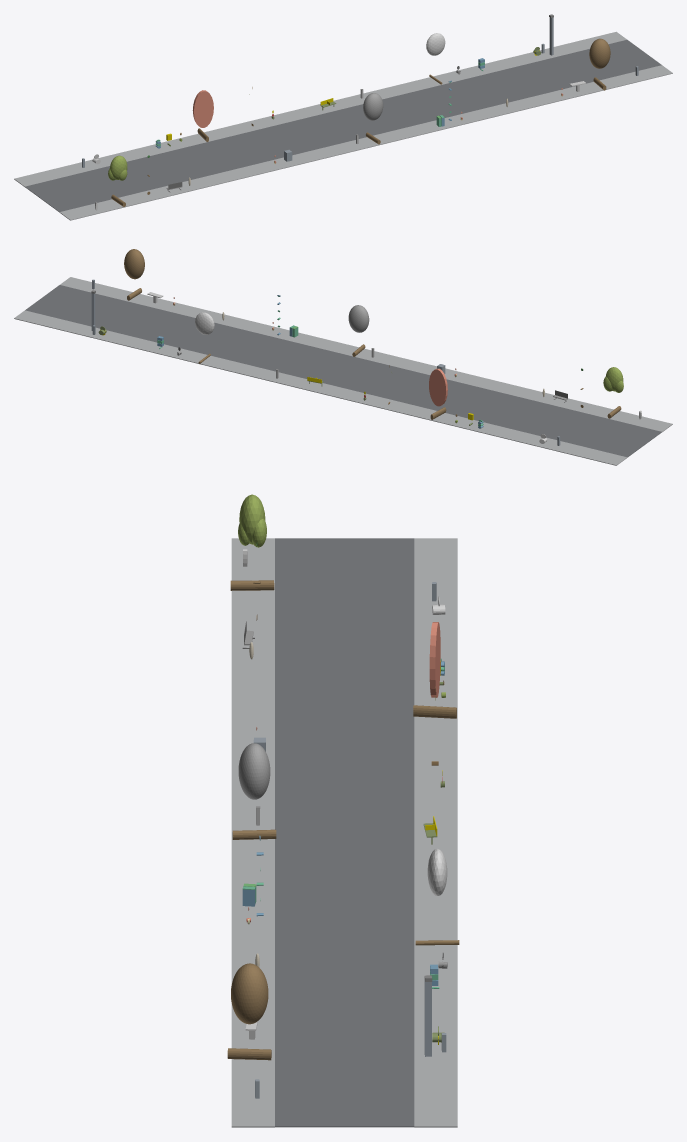
The picture shows the model from 3 angles, top to bottom: view 1: azimuth 30°, elevation 25°; view 2: azimuth 150°, elevation 25°; view 3: azimuth 270°, elevation 25°; orthographic projection. The views are drawn at different scales.
Visible parts, largest first — view 1: road_slab, sidewalk_left, sidewalk_right, inst_0013, inst_0016, inst_0014, inst_0012, inst_0015; view 2: road_slab, sidewalk_right, sidewalk_left, inst_0013, inst_0016, inst_0014, inst_0012, inst_0015; view 3: road_slab, sidewalk_right, sidewalk_left, inst_0016, inst_0014, inst_0012, inst_0013, inst_0015.
Part boxes in pixels (x1,y1,x2,y2): road_slab: (25, 39, 661, 212); sidewalk_left: (59, 65, 672, 220); sidewalk_right: (14, 31, 626, 186); inst_0013: (192, 90, 213, 141); inst_0016: (589, 38, 610, 90); inst_0014: (363, 93, 383, 144); inst_0012: (108, 155, 127, 206); inst_0015: (426, 33, 445, 84); road_slab: (25, 285, 661, 457); sidewalk_right: (14, 310, 627, 465); sidewalk_left: (60, 277, 672, 432); inst_0013: (429, 368, 447, 419); inst_0016: (124, 249, 144, 300); inst_0014: (348, 305, 369, 356); inst_0012: (603, 367, 623, 418); inst_0015: (195, 312, 214, 363); road_slab: (275, 538, 414, 1127); sidewalk_right: (414, 538, 457, 1127); sidewalk_left: (231, 538, 274, 1127); inst_0016: (227, 963, 271, 1060); inst_0014: (232, 743, 276, 839); inst_0012: (230, 494, 274, 590); inst_0013: (413, 622, 456, 718); inst_0015: (415, 848, 459, 945).
Size of the model in its own units: 80 by 6.08 by 13.32.
